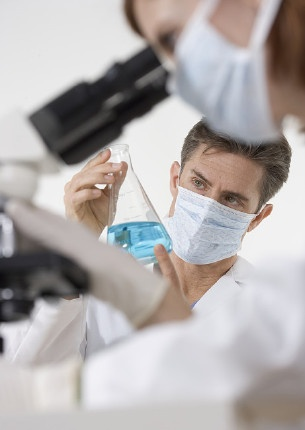Mask: (166, 164, 267, 265)
